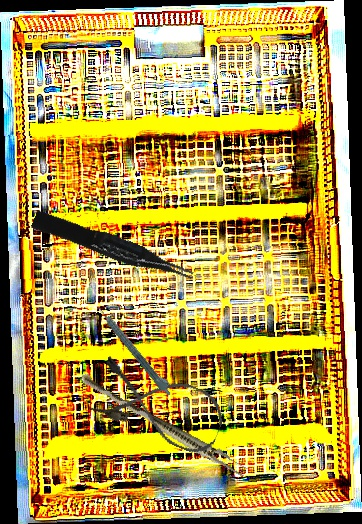Cannula: (87, 352, 231, 460)
Handpiece: (94, 301, 177, 398)
Tissue Forceps: (75, 372, 251, 479), (30, 203, 196, 293)
